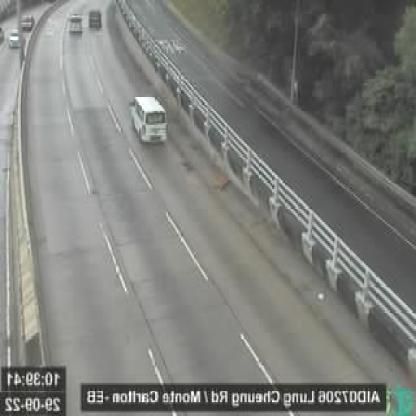Car: (129, 90, 173, 147), (65, 9, 88, 38), (87, 3, 105, 33), (21, 10, 39, 32), (8, 26, 24, 49)
